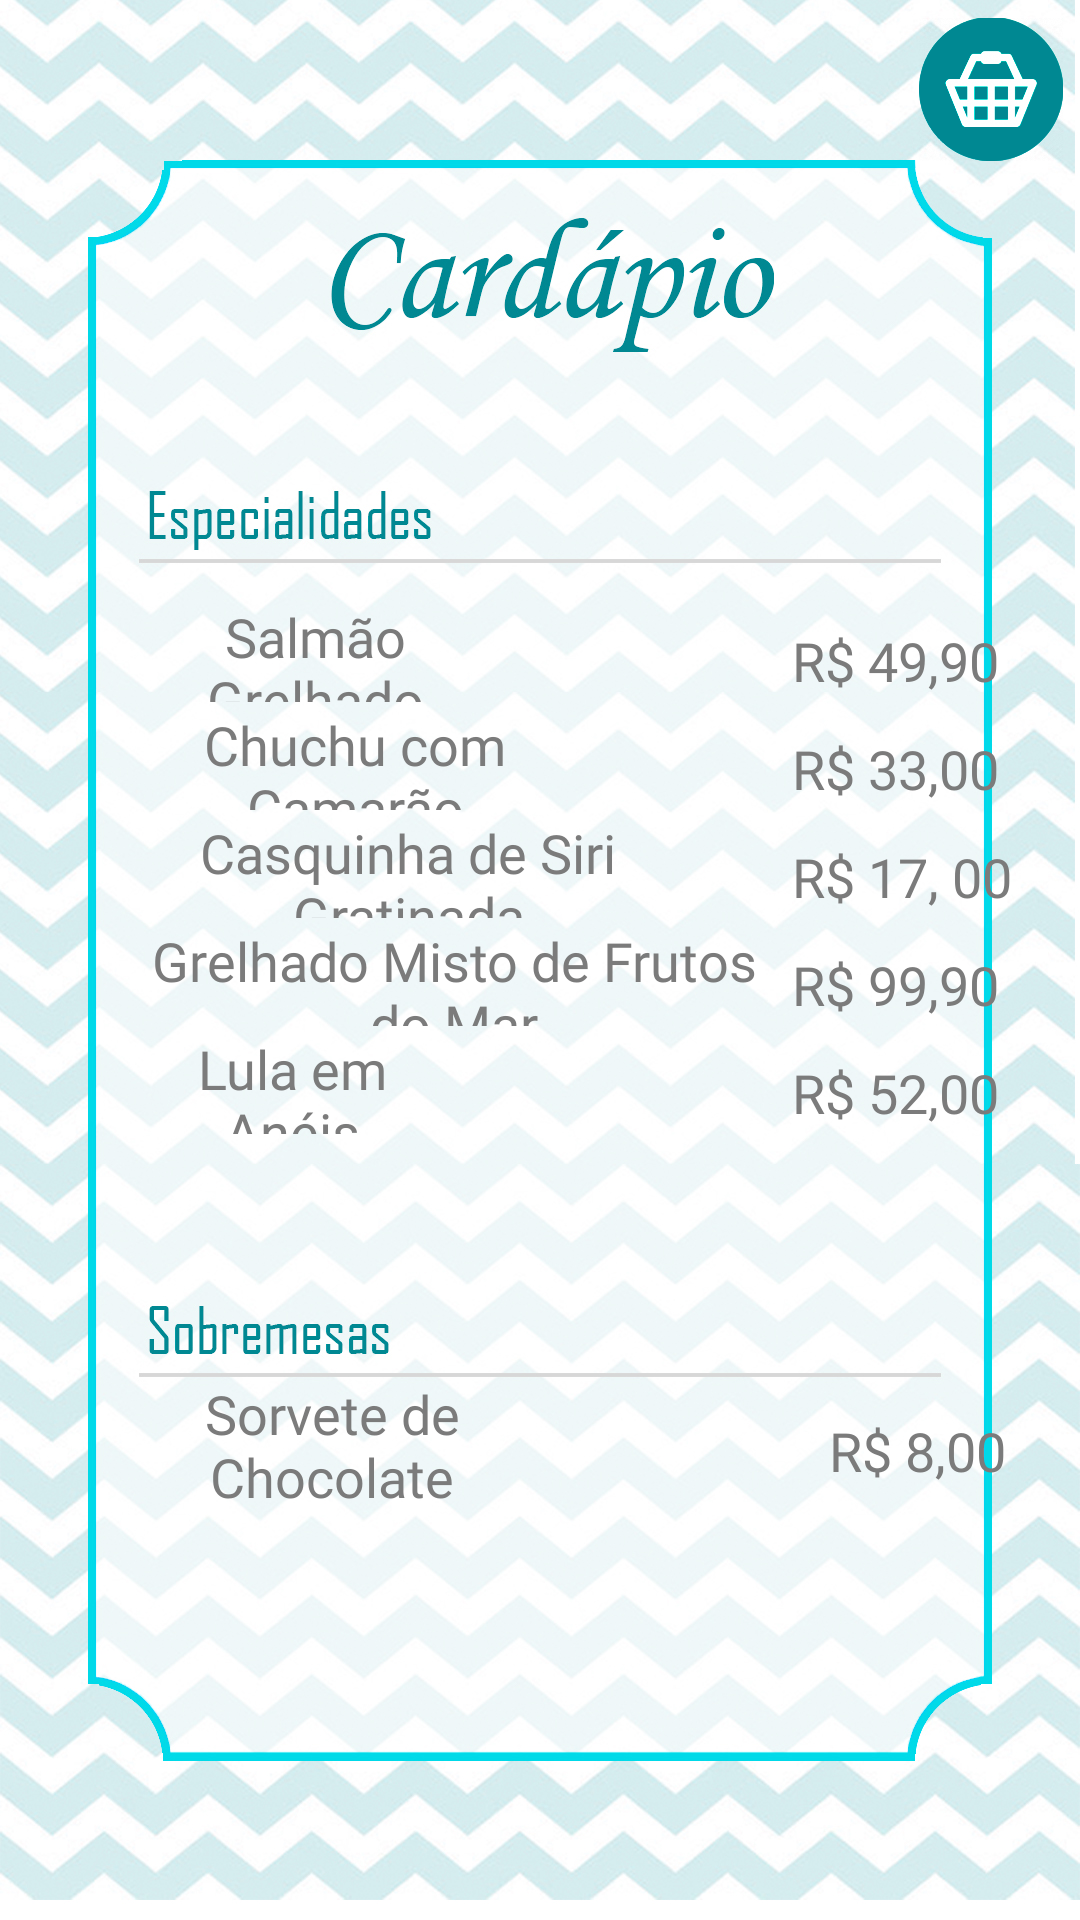

Named icons in this screenshot (1080*1920) and their centers, (x=x, y=y):
carrinho: (x=987, y=90)
